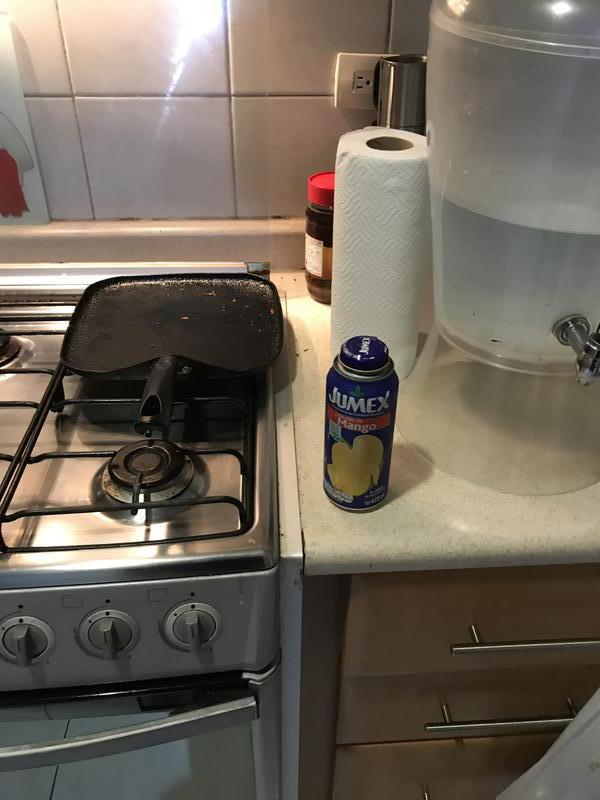jugo_jumex: (321, 333, 396, 514)
